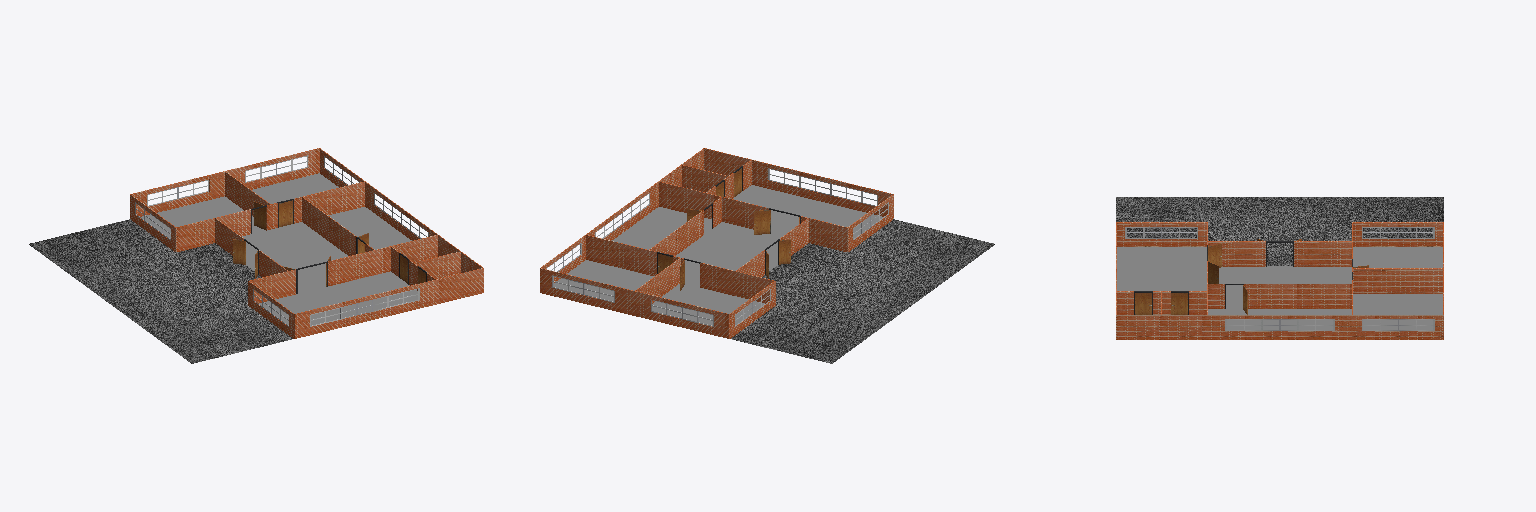
3 views of the same model, side by side, from view 1: azimuth 30°, elevation 25°; view 2: azimuth 150°, elevation 25°; view 3: azimuth 270°, elevation 25° (orthographic).
Visible parts, largest first — view 1: Plane016, Plane010, Box058, Plane014, Box057, Box009, Box056, Plane013, Plane012, Box007, Box006, Box008 (+6 smaller); view 2: Plane016, Plane010, Box057, Plane014, Box058, Box009, Plane012, Box056, Plane011, Box006, Plane013, Box007 (+6 smaller); view 3: Plane016, Box056, Plane014, Plane010, Box008, Plane011, Box001, Plane012, Plane013, Box012, Box011, Box054 (+1 smaller).
Part boxes in pixels (x1,y1,x2,y2): Plane016: (29, 219, 292, 363); Plane010: (242, 222, 347, 293); Box058: (294, 268, 483, 338); Plane014: (259, 271, 417, 325); Box057: (131, 148, 319, 216); Box009: (328, 235, 437, 285); Box056: (320, 148, 482, 272); Plane013: (328, 207, 411, 249); Plane012: (141, 196, 265, 238); Box007: (176, 209, 250, 251); Box006: (294, 181, 364, 223); Box008: (302, 197, 356, 255); Plane016: (731, 219, 994, 363); Plane010: (676, 222, 782, 286); Box057: (540, 268, 729, 338); Plane014: (733, 185, 882, 238); Box058: (704, 148, 892, 216); Box009: (659, 181, 768, 229); Plane012: (652, 284, 764, 325); Box056: (541, 148, 703, 282); Plane011: (554, 260, 654, 301); Box006: (586, 235, 656, 275); Plane013: (612, 207, 711, 249); Box007: (700, 263, 775, 305); Plane016: (1116, 197, 1443, 265); Box056: (1116, 315, 1443, 339); Plane014: (1117, 247, 1206, 290); Plane010: (1219, 266, 1351, 308); Box008: (1244, 284, 1351, 308); Plane011: (1353, 294, 1442, 329); Box001: (1353, 268, 1442, 293); Plane012: (1353, 247, 1442, 267); Plane013: (1208, 309, 1351, 329); Box012: (1294, 241, 1351, 266); Box011: (1353, 222, 1442, 246); Box054: (1117, 222, 1206, 246).
Bounding box in the file's own units: 729 × 59.65 × 711.
7 materials, 5 textured.